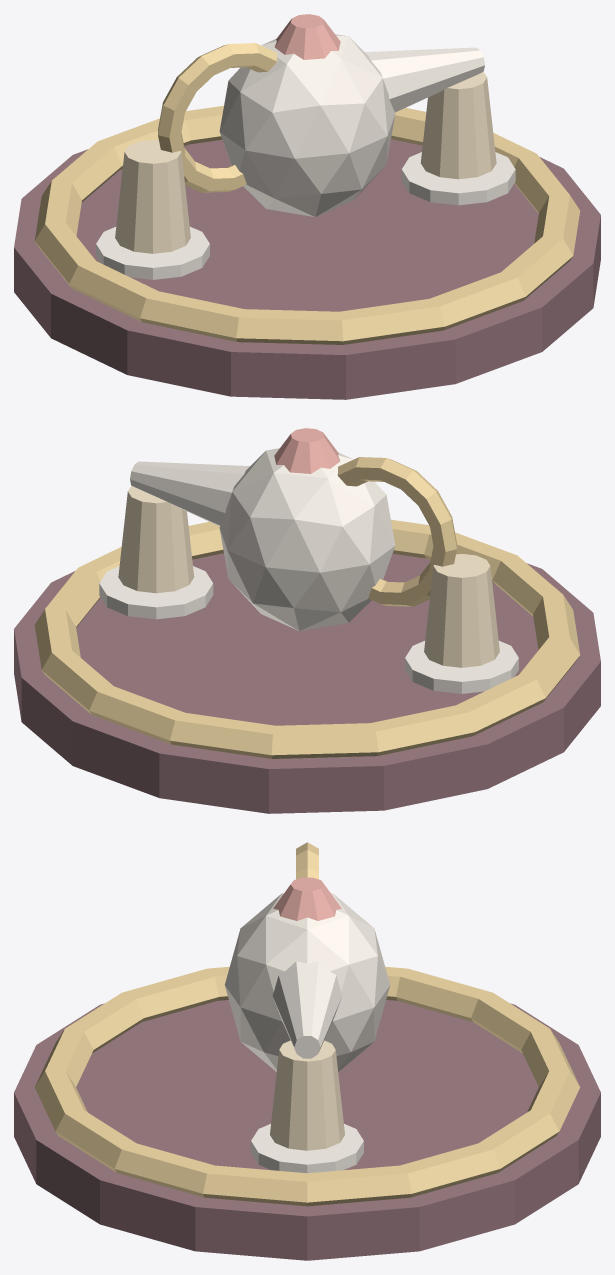
File: Obstacle_Tea.glb
The picture shows the model from 3 angles, top to bottom: view 1: azimuth 30°, elevation 25°; view 2: azimuth 150°, elevation 25°; view 3: azimuth 270°, elevation 25°; orthographic projection.
Parts seen in each view (by area): view 1: TeaTray_base, TeaTray_rim, Teapot_body, TeaGlass_0, TeaGlass_1, Teapot_handle, Teapot_spout, Saucer_1, Saucer_0, Teapot_lid; view 2: TeaTray_base, TeaTray_rim, Teapot_body, TeaGlass_0, TeaGlass_1, Teapot_handle, Teapot_spout, Saucer_1, Saucer_0, Teapot_lid; view 3: TeaTray_base, TeaTray_rim, Teapot_body, TeaGlass_1, Teapot_spout, Saucer_1, Teapot_lid, Teapot_handle.
Part boxes in pixels (x1,y1,x2,y2): TeaTray_base: [14, 139, 600, 399]; TeaTray_rim: [34, 105, 580, 344]; Teapot_body: [219, 34, 395, 217]; TeaGlass_0: [115, 140, 190, 253]; TeaGlass_1: [420, 71, 496, 179]; Teapot_handle: [158, 43, 277, 192]; Teapot_spout: [365, 47, 484, 112]; Saucer_1: [401, 152, 515, 205]; Saucer_0: [96, 227, 209, 279]; Teapot_lid: [274, 14, 340, 59]; TeaTray_base: [14, 553, 600, 813]; TeaTray_rim: [34, 519, 580, 758]; Teapot_body: [219, 448, 395, 631]; TeaGlass_0: [424, 554, 499, 667]; TeaGlass_1: [118, 485, 194, 593]; Teapot_handle: [337, 457, 456, 606]; Teapot_spout: [130, 461, 249, 526]; Saucer_1: [99, 566, 213, 619]; Saucer_0: [405, 641, 518, 693]; Teapot_lid: [274, 428, 340, 473]; TeaTray_base: [14, 1000, 600, 1260]; TeaTray_rim: [34, 966, 580, 1206]; Teapot_body: [225, 893, 389, 1071]; TeaGlass_1: [270, 1040, 344, 1150]; Teapot_spout: [272, 961, 342, 1058]; Saucer_1: [251, 1124, 363, 1173]; Teapot_lid: [273, 877, 341, 920]; Teapot_handle: [296, 842, 318, 879].
Size of the model in its own units: 1.56 by 0.74 by 1.56.
